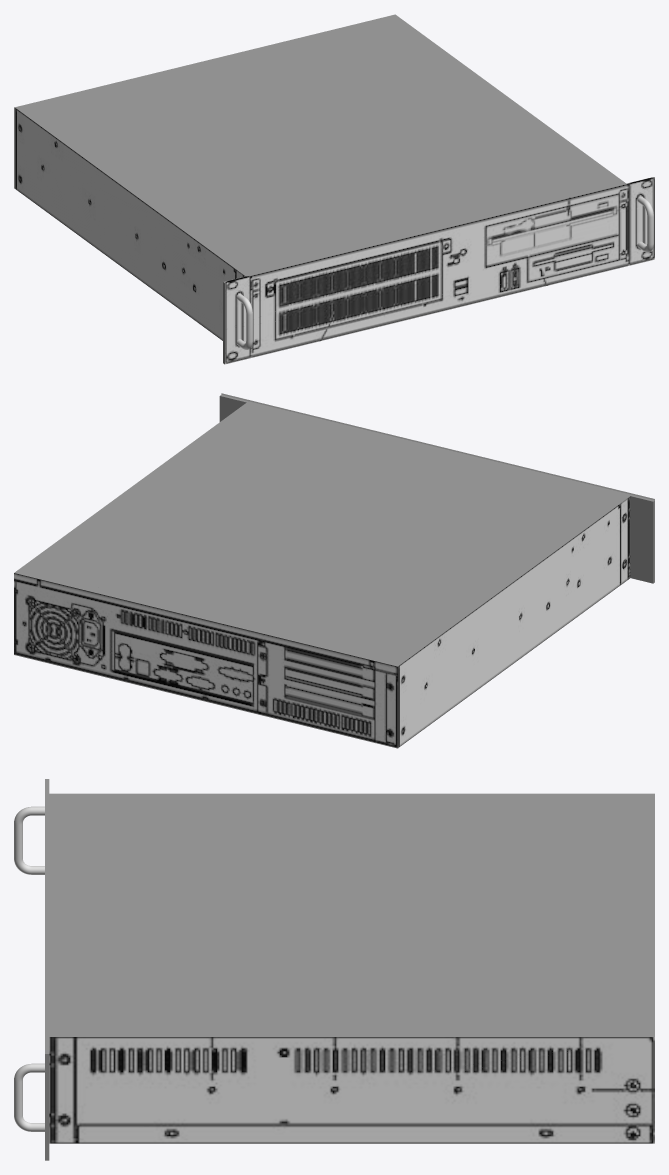
The model's file is lo detail 2U.gltf.
3 renders of one model, top to bottom at view 1: azimuth 30°, elevation 25°; view 2: azimuth 150°, elevation 25°; view 3: azimuth 270°, elevation 25°, orthographic. The views are drawn at different scales.
Parts seen in each view (by area): view 1: group_14, group_9, ID171, group_12, group_10, group_8, group_11, group_0; view 2: group_13, ID171, group_9, group_12, group_10, group_8, group_11, group_0, group_14; view 3: ID181, group_10, group_9, group_12, group_11, group_8, group_0, group_15, group_16.
Part boxes in pixels (x1=…): group_14: x1=225, y1=177, x2=654, y2=364; group_9: x1=318, y1=14, x2=625, y2=202; ID171: x1=14, y1=107, x2=245, y2=340; group_12: x1=15, y1=89, x2=320, y2=276; group_10: x1=242, y1=33, x2=548, y2=220; group_8: x1=166, y1=52, x2=472, y2=239; group_11: x1=91, y1=70, x2=396, y2=257; group_0: x1=223, y1=177, x2=653, y2=364; group_13: x1=14, y1=573, x2=398, y2=748; ID171: x1=398, y1=496, x2=630, y2=747; group_9: x1=14, y1=402, x2=324, y2=591; group_12: x1=321, y1=477, x2=629, y2=666; group_10: x1=93, y1=421, x2=400, y2=610; group_8: x1=169, y1=440, x2=477, y2=629; group_11: x1=245, y1=459, x2=553, y2=647; group_0: x1=219, y1=394, x2=654, y2=583; group_14: x1=221, y1=393, x2=654, y2=500; ID181: x1=49, y1=1037, x2=654, y2=1143; group_10: x1=49, y1=938, x2=654, y2=987; group_9: x1=49, y1=987, x2=654, y2=1036; group_12: x1=49, y1=793, x2=654, y2=841; group_11: x1=49, y1=842, x2=654, y2=890; group_8: x1=49, y1=890, x2=654, y2=938; group_0: x1=45, y1=779, x2=49, y2=1160; group_15: x1=14, y1=806, x2=44, y2=874; group_16: x1=14, y1=1063, x2=44, y2=1131.
Bounding box in the file's own units: 0.4676 × 0.086 × 0.4604.
Materials: 23 (4 with a texture image).
